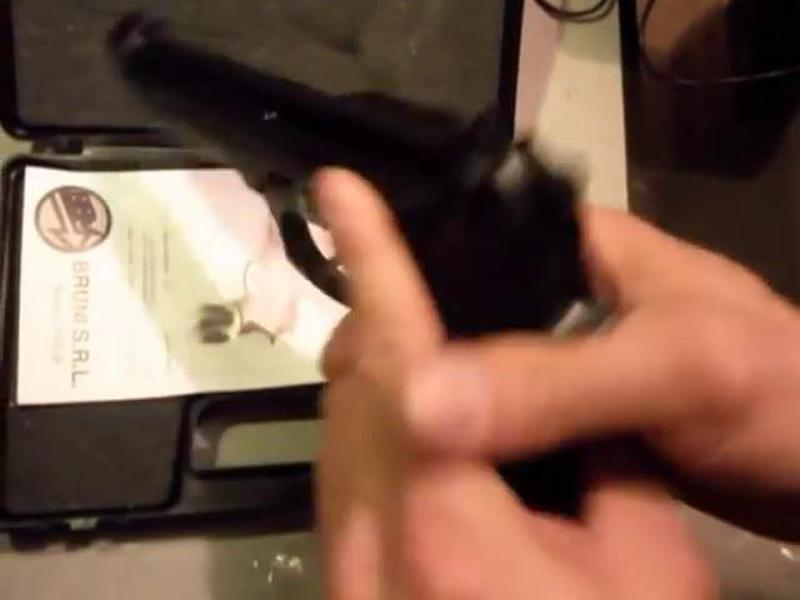Pistola: (60, 2, 622, 521)
